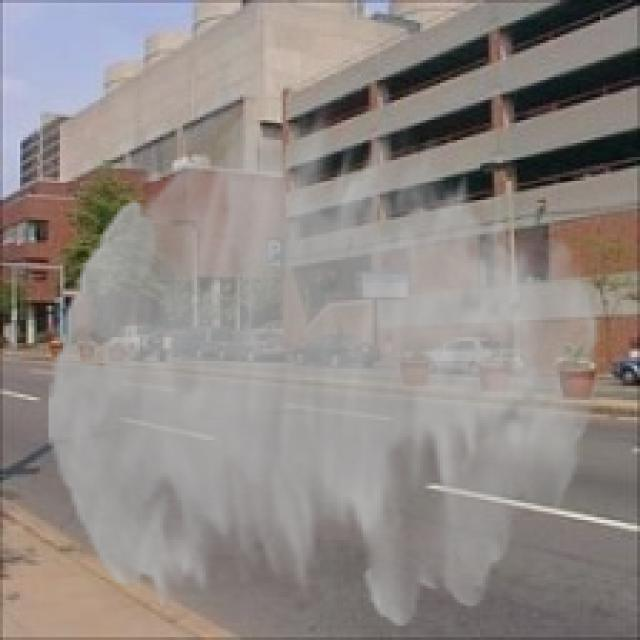Smoke: (49, 105, 600, 626)
